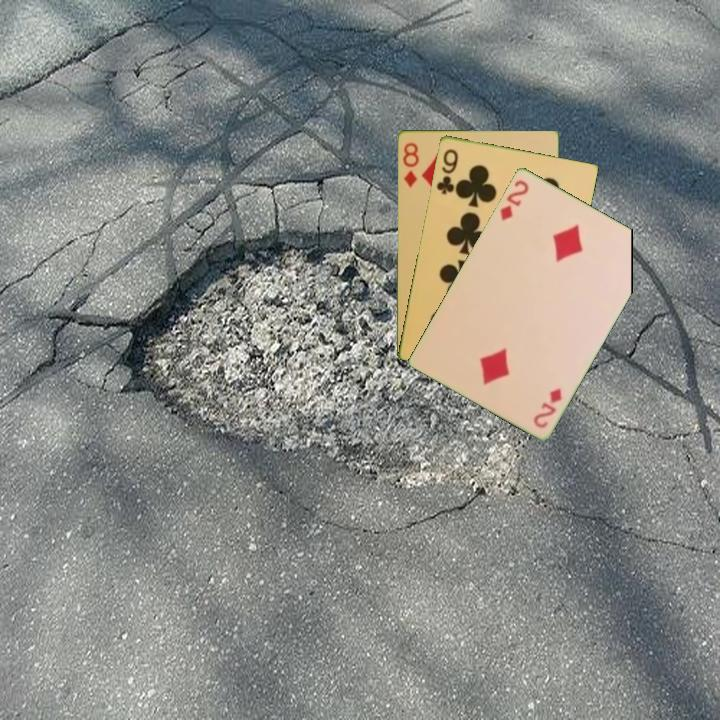2d: (496, 176, 532, 223), (529, 384, 565, 431)
8d: (399, 139, 422, 190)
9c: (433, 145, 461, 197)
